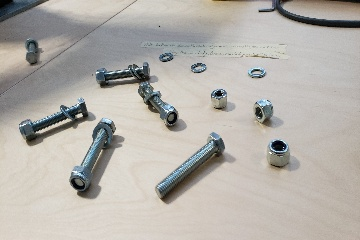Bolt: (149, 130, 226, 207)
FalseAssembly: (66, 118, 120, 191), (18, 96, 92, 141), (22, 37, 43, 68)
FinishedAssembly: (139, 82, 177, 125), (95, 60, 152, 86)
Nut: (263, 136, 296, 172), (251, 97, 277, 126), (210, 88, 228, 109)
Washer: (247, 66, 268, 78), (158, 51, 174, 65), (190, 62, 208, 74)
